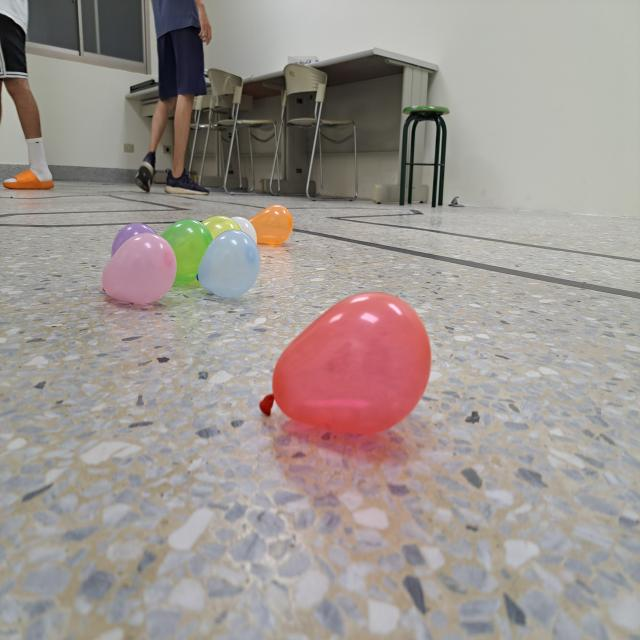other: (100, 233, 176, 305), (197, 231, 260, 295), (162, 219, 213, 283), (250, 205, 293, 242), (108, 222, 156, 252), (202, 215, 239, 236), (232, 218, 257, 243)
red: (260, 289, 431, 436)
